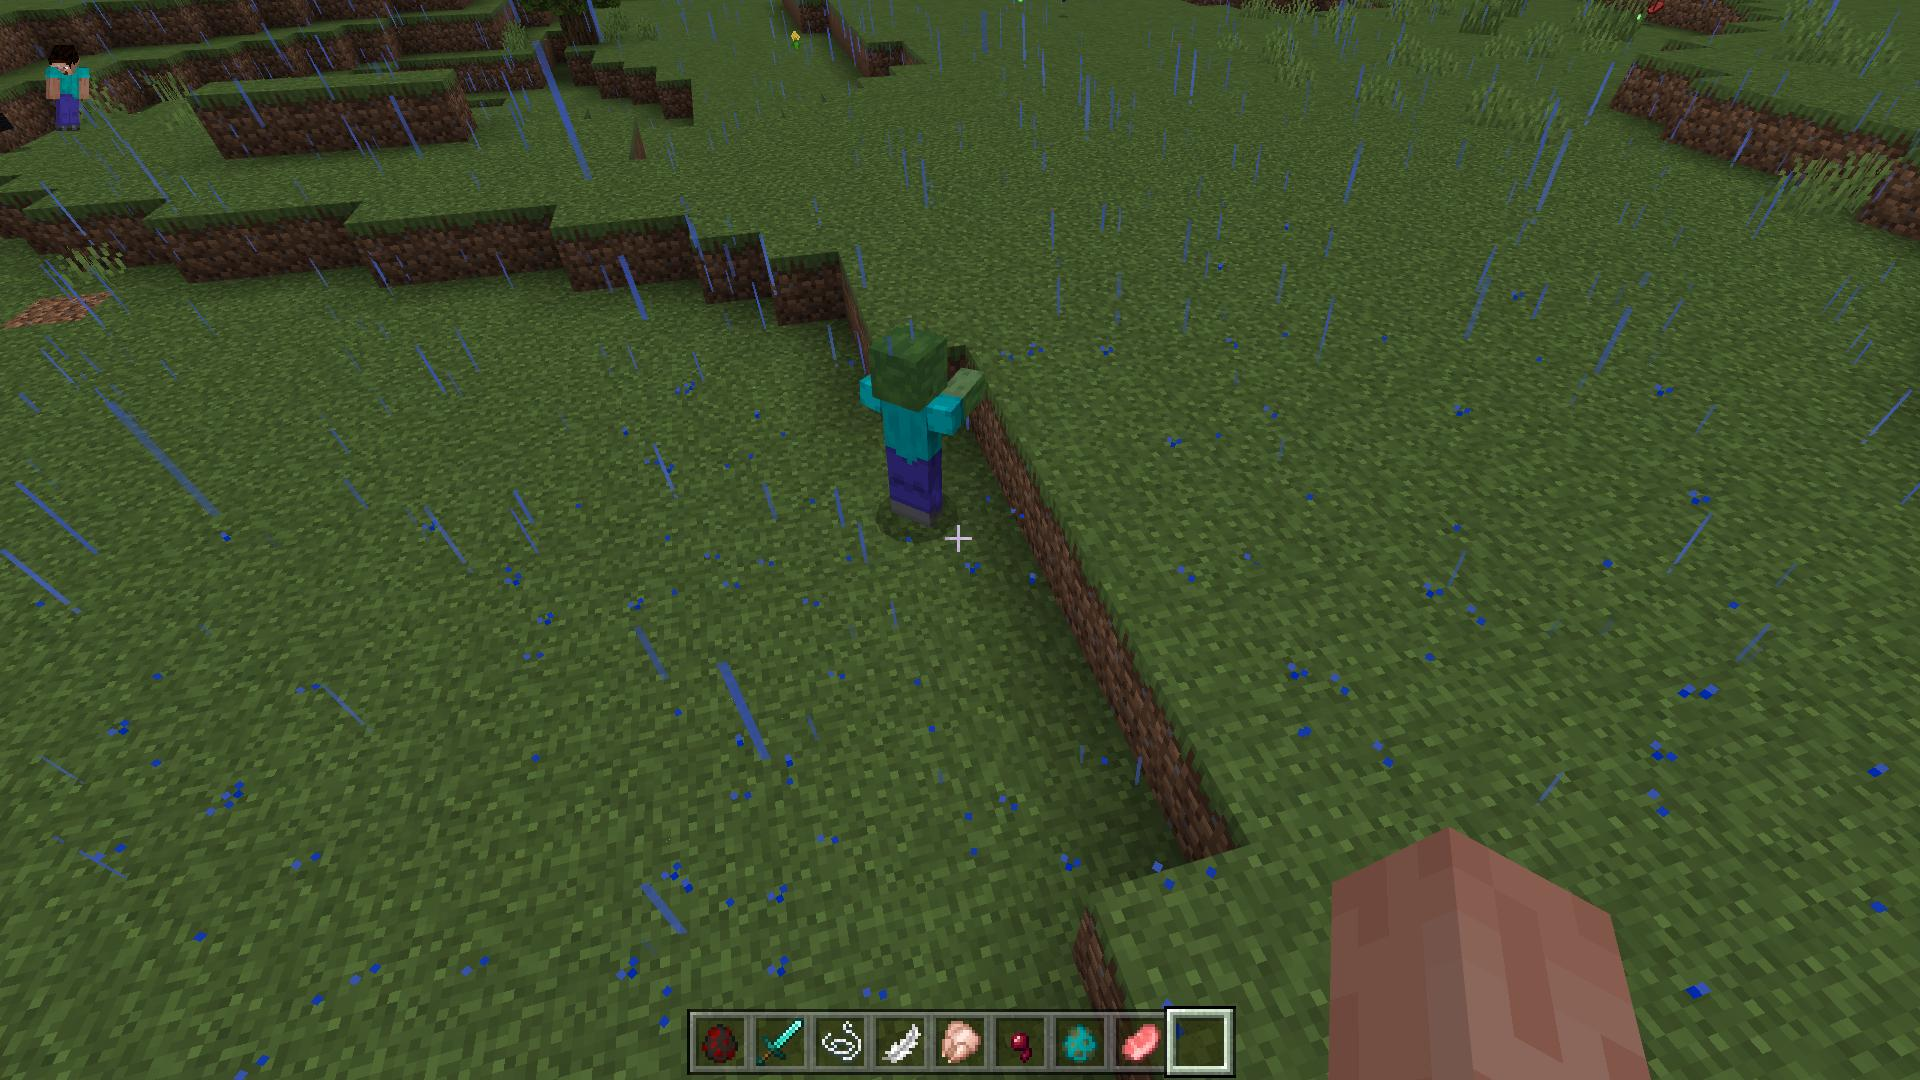zombie: (861, 327, 980, 525)
